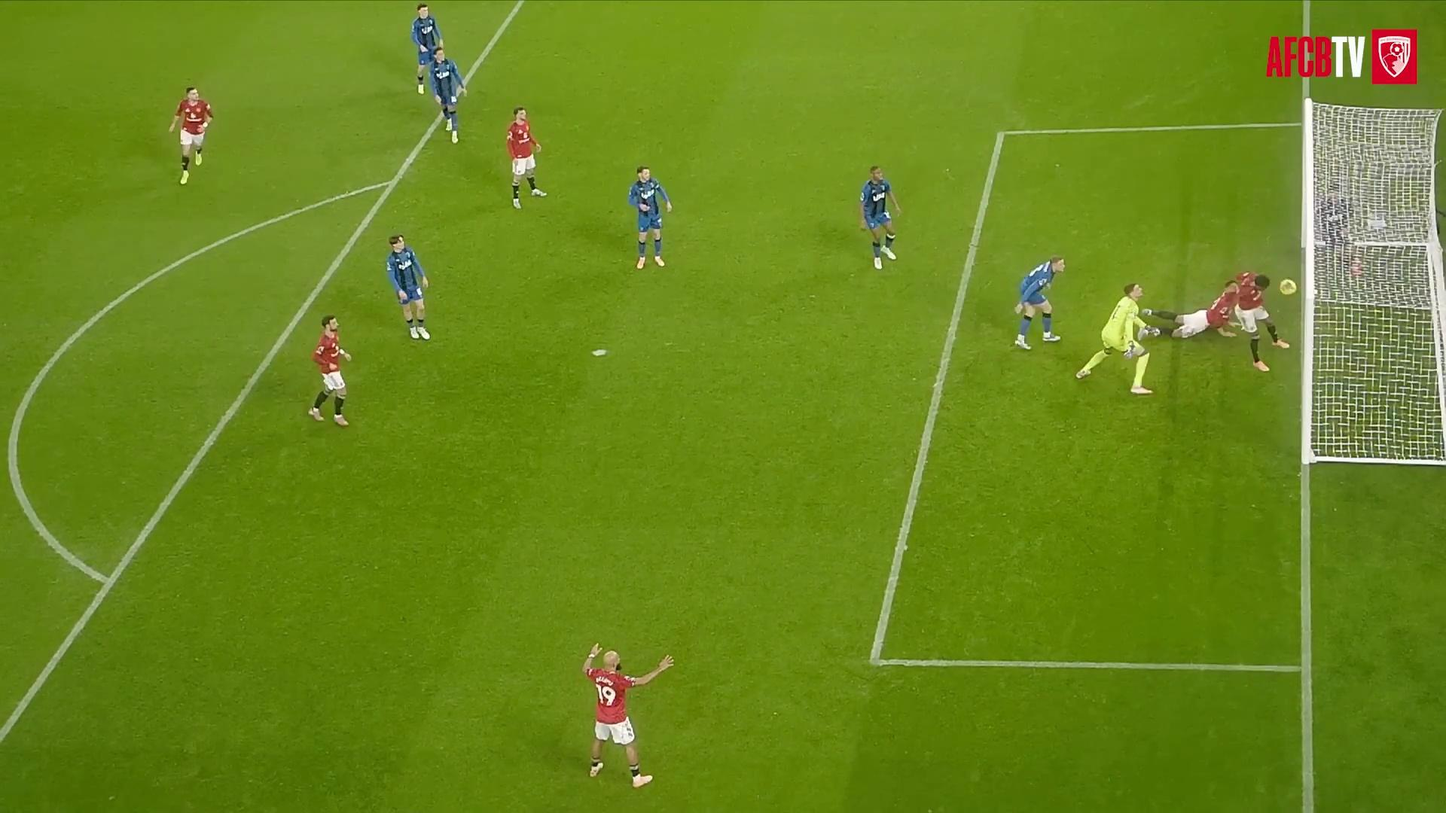football: (1279, 279, 1297, 294)
player: (583, 644, 673, 787), (1075, 284, 1158, 394), (1234, 272, 1289, 371), (1142, 282, 1238, 338), (1014, 255, 1064, 349), (309, 315, 350, 426), (628, 166, 672, 269), (386, 234, 429, 339), (1316, 183, 1362, 276), (168, 87, 212, 184), (860, 166, 901, 269), (506, 107, 545, 209), (429, 46, 466, 143), (411, 3, 443, 94)
